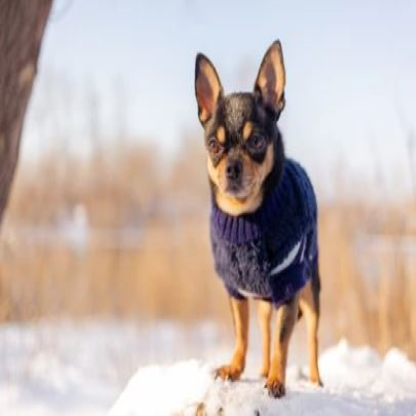chihuahua: (192, 37, 328, 402)
